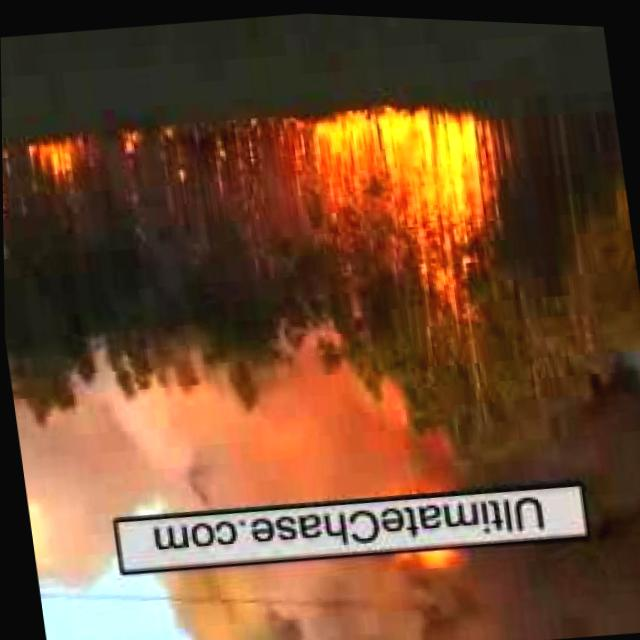Fire: (283, 84, 519, 312), (152, 102, 283, 198), (20, 133, 93, 186), (398, 542, 452, 570), (118, 123, 140, 157), (2, 140, 11, 219)
Smoke: (6, 287, 640, 548), (143, 502, 640, 640)
